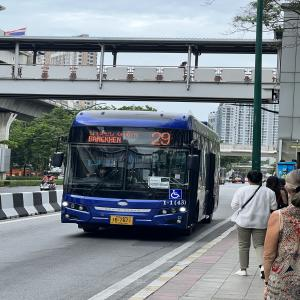Bus Line Number: (148, 129, 175, 147)
Bus Side Number: (160, 199, 188, 206)
Destination Sign: (84, 128, 142, 146)
TSB-Bus: (60, 110, 221, 236)
